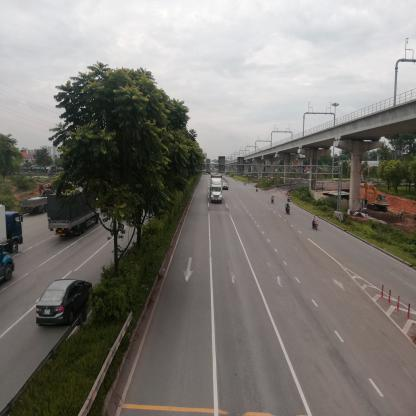car: (37, 272, 93, 327), (223, 183, 230, 193)
container: (212, 175, 222, 204)
motorbike: (312, 217, 320, 230), (286, 205, 293, 216), (273, 197, 277, 205), (289, 196, 292, 203), (257, 187, 259, 193)
truck: (48, 184, 102, 238), (1, 201, 24, 255)
